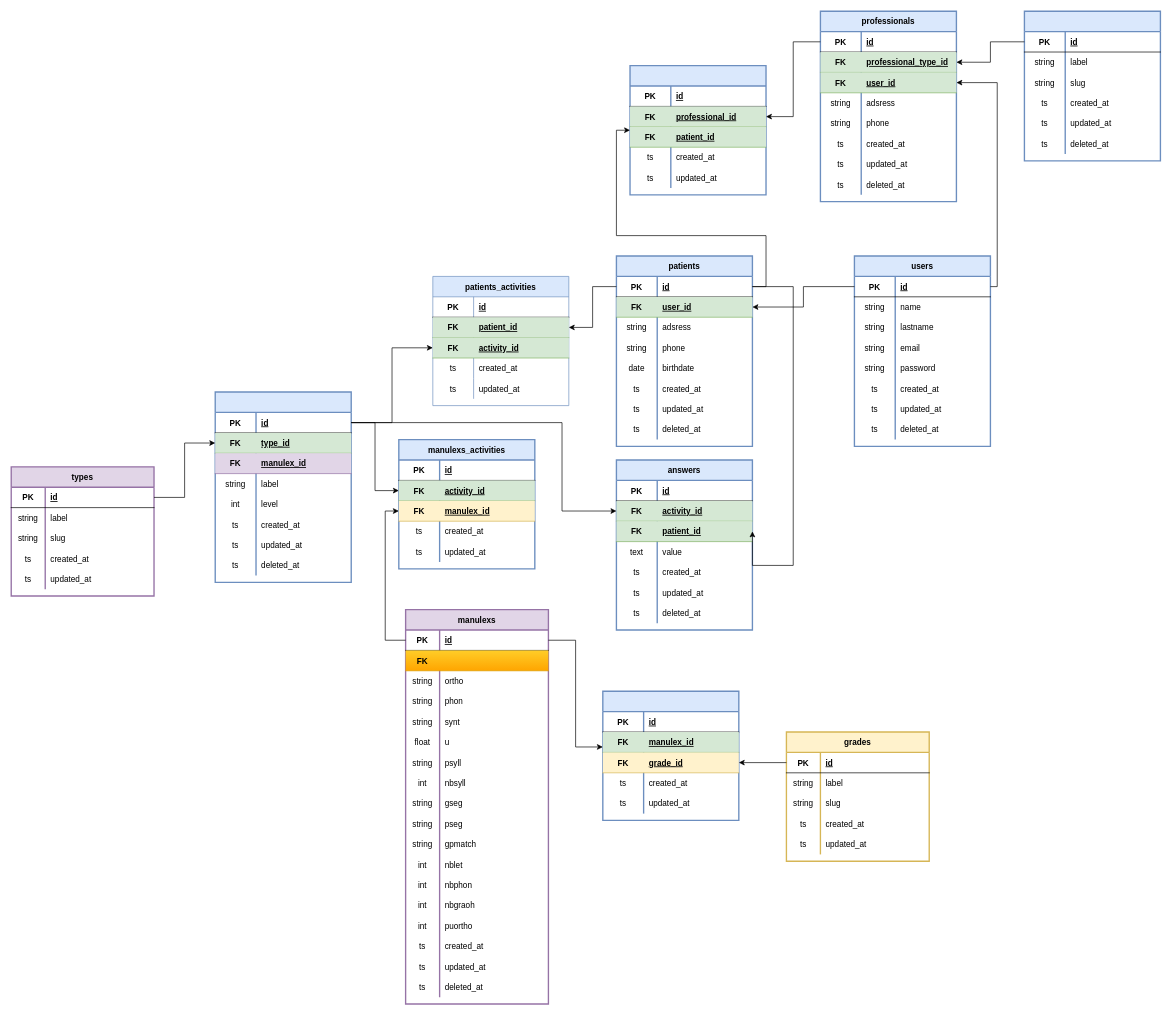
This 1172x1015 diagram has some shape labels left out. The shapes that lost their labels are listed below. From the top down, each one's box as (x1, y1, x2, y2) in pixels, then its label:
(1023, 10, 1161, 161): professional_types
(629, 65, 766, 195): patients_professionals
(214, 391, 352, 583): activities
(602, 690, 739, 821): manulexs_grades
